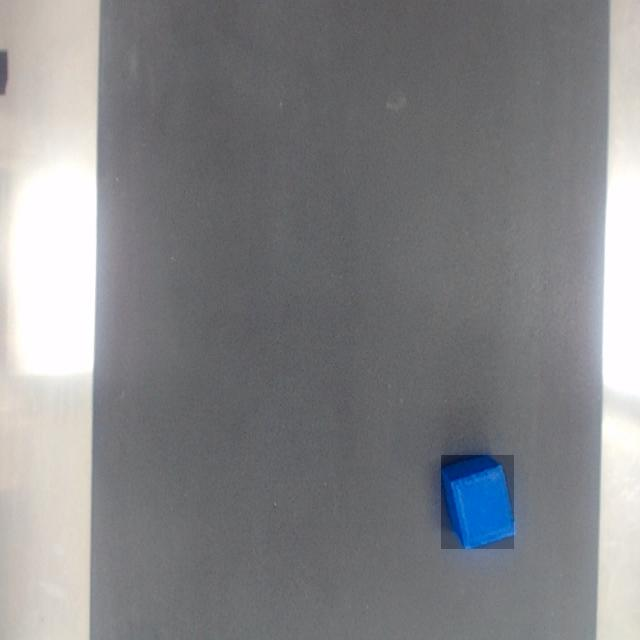Azul: (442, 455, 514, 549)
